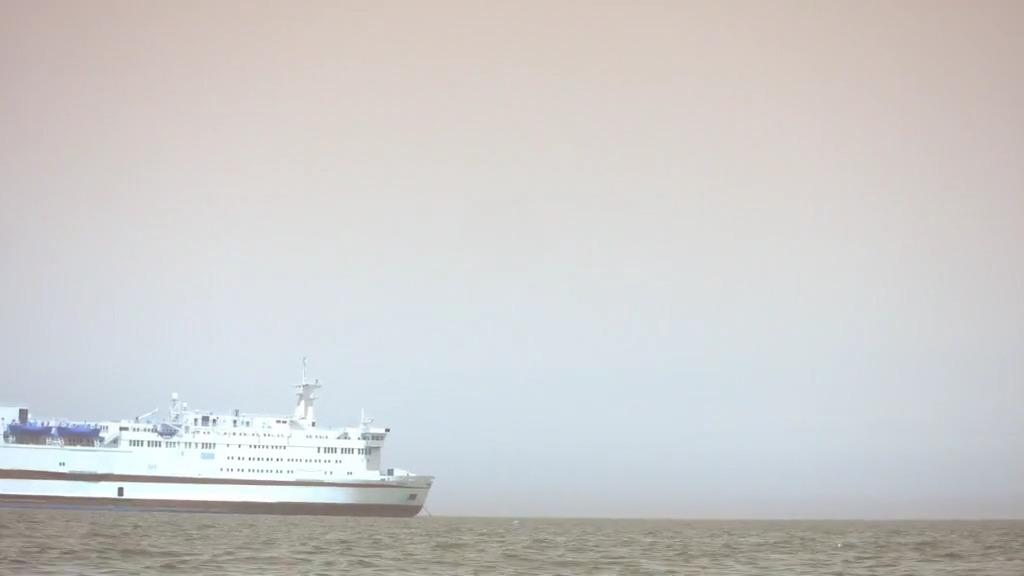PassengerShip: (0, 352, 448, 520)
